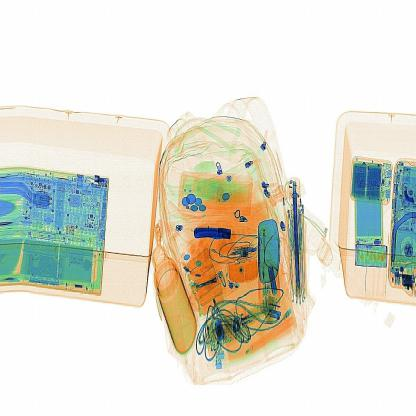knife: (185, 220, 236, 252)
